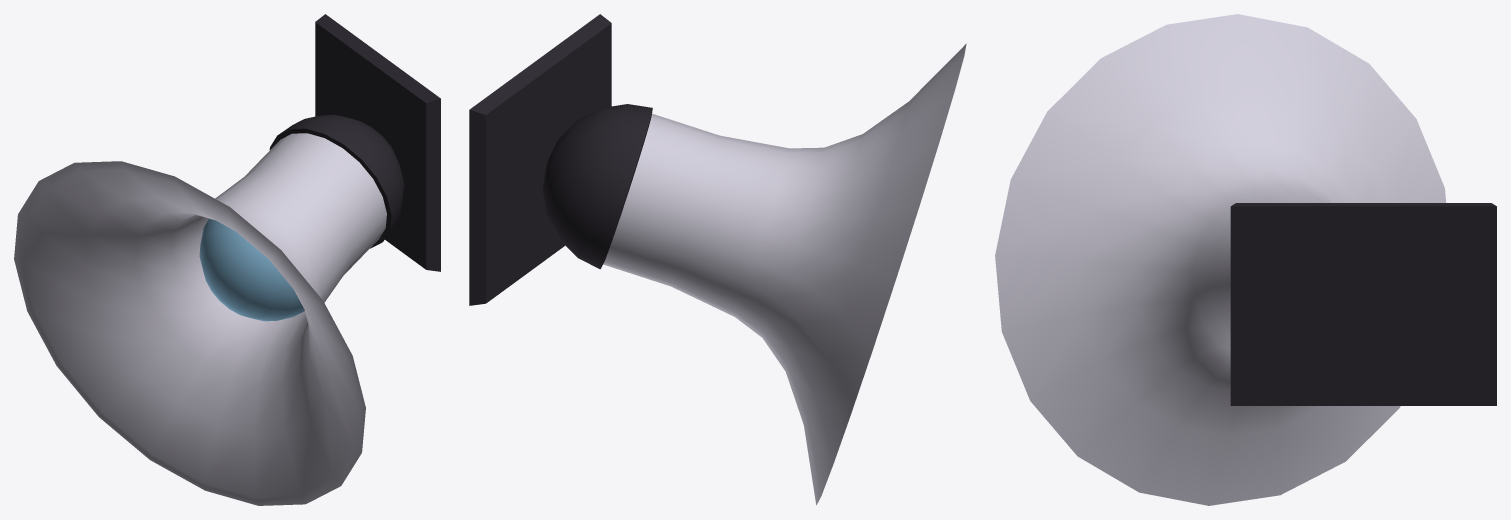
File: EM_144_megaphone.glb
3 renders of one model, left to right at view 1: azimuth 30°, elevation 25°; view 2: azimuth 150°, elevation 25°; view 3: azimuth 270°, elevation 25°, orthographic. The views are drawn at different scales.
Parts seen in each view (by area): view 1: megaphone, wall_attachment; view 2: megaphone, wall_attachment; view 3: megaphone, wall_attachment.
Boxes of the visible parts, bbox=[...] form: megaphone: bbox=[14, 114, 404, 505]; wall_attachment: bbox=[315, 14, 440, 271]; megaphone: bbox=[542, 43, 966, 505]; wall_attachment: bbox=[469, 14, 611, 305]; megaphone: bbox=[995, 14, 1446, 505]; wall_attachment: bbox=[1230, 203, 1496, 405].
Bounding box in the file's own units: 1.23 × 1.27 × 1.35.
